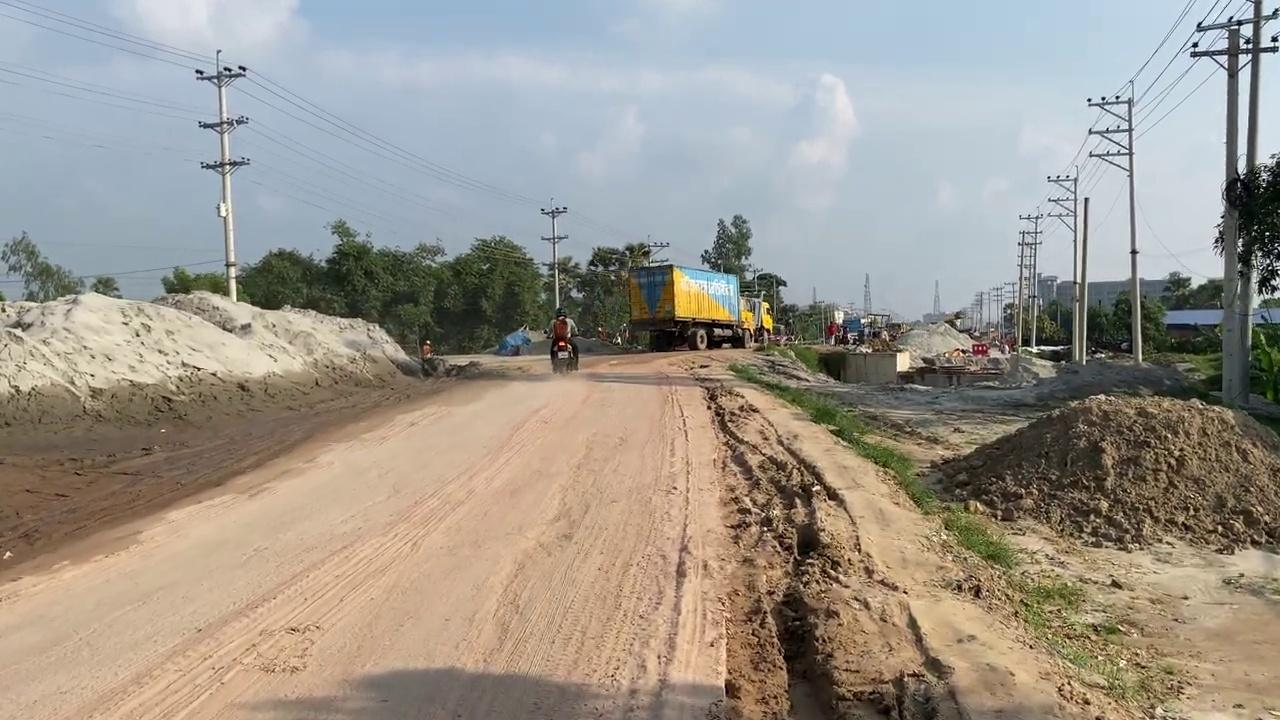Light-pole: (194, 49, 250, 302)
Motorcycle: (543, 330, 579, 375)
Obstacle: (816, 345, 909, 384)
Pole: (1188, 0, 1279, 407), (1086, 85, 1143, 363)
Rickshaw: (720, 364, 1084, 718)
Traffic-sign: (1211, 150, 1279, 299), (699, 213, 753, 279)
Tree: (622, 262, 766, 351), (828, 272, 901, 345), (831, 311, 900, 345), (739, 289, 773, 347), (864, 312, 892, 340)
